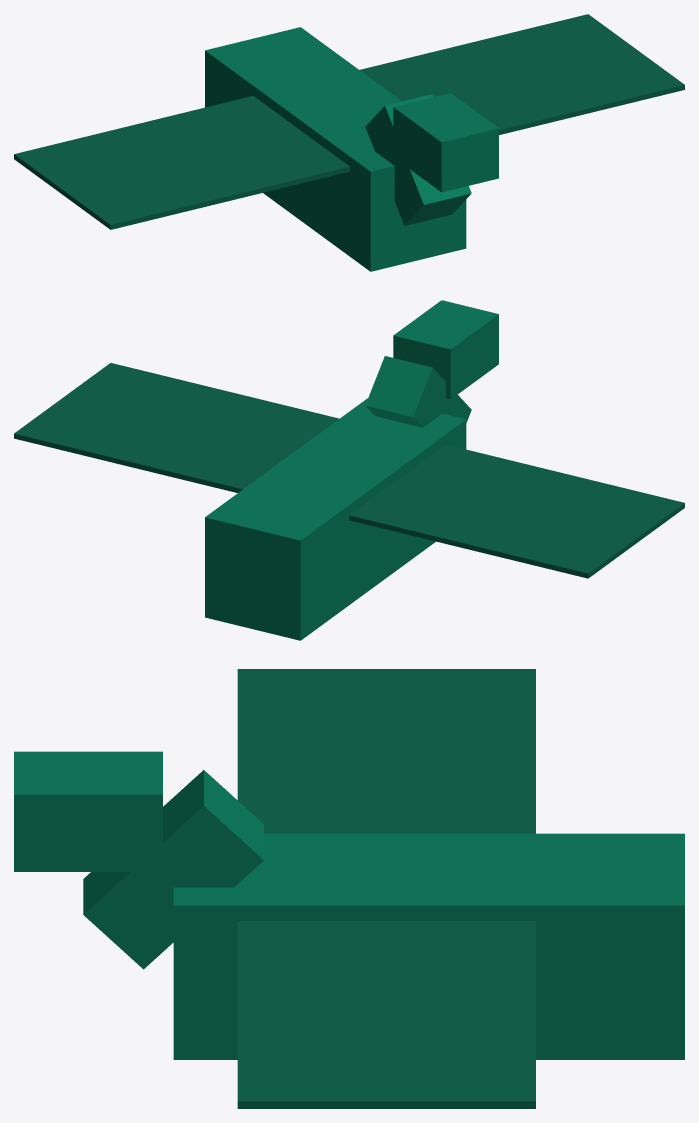
File: dragon.glb
3 renders of one model, top to bottom at view 1: azimuth 30°, elevation 25°; view 2: azimuth 150°, elevation 25°; view 3: azimuth 270°, elevation 25°, orthographic. The views are drawn at different scales.
Size of the model in its own units: 1 by 0.2708 by 0.6562.
